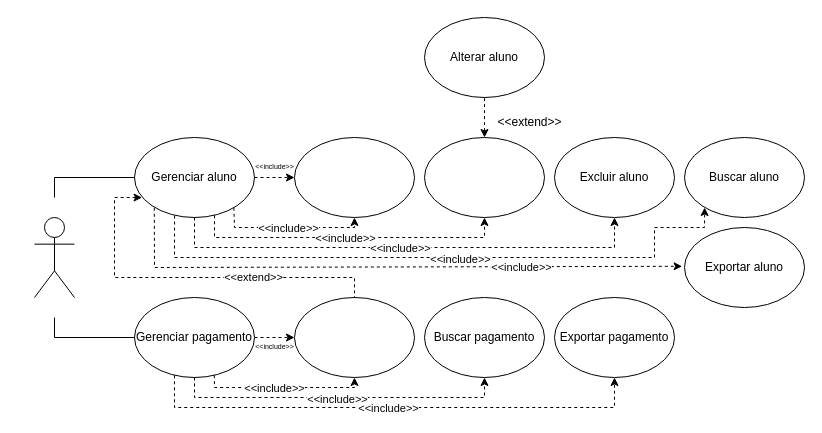
Image size: 822x433. Some labels were removed from this diagram. The centre of each missing label's shape, as x and y in pixels:
Cadastrar aluno: point (354, 177)
Exibir aluno: point (484, 177)
Recepcionista: point (54, 257)
Registrar pagamento: point (354, 337)
